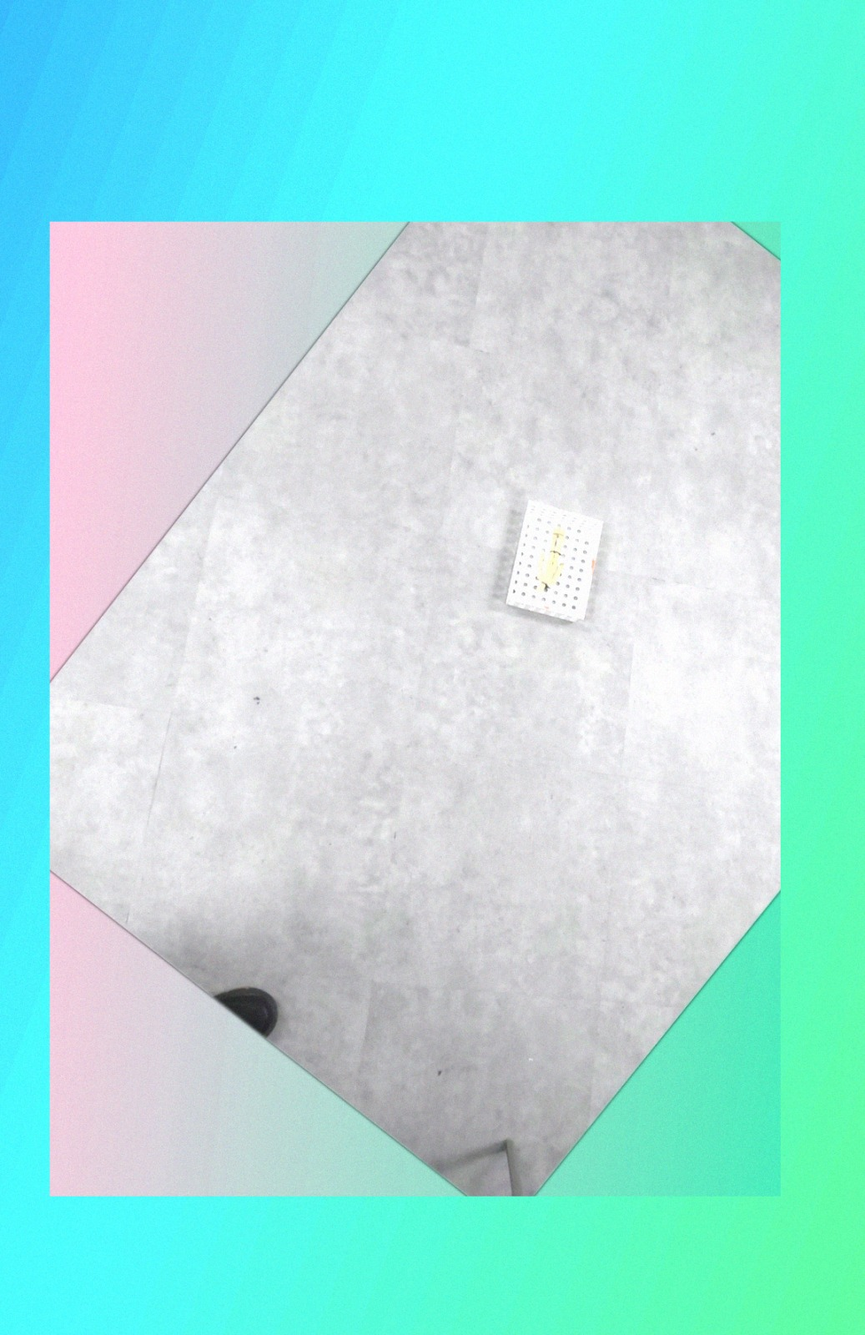basket: (497, 494, 605, 630)
mannequin: (535, 527, 568, 597)
